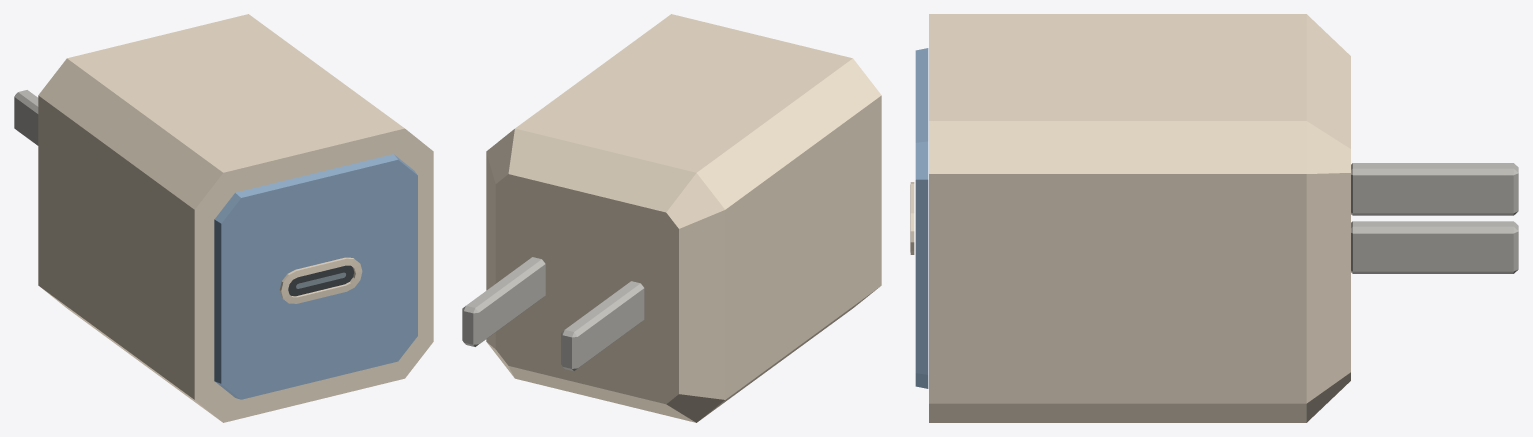
File: phone-charger.glb
The picture shows the model from 3 angles, left to right: view 1: azimuth 30°, elevation 25°; view 2: azimuth 150°, elevation 25°; view 3: azimuth 270°, elevation 25°; orthographic projection. The views are drawn at different scales.
Parts seen in each view (by area): view 1: 01 米白切角塑料外壳; view 2: 01 米白切角塑料外壳; view 3: 01 米白切角塑料外壳.
Boxes of the visible parts, x1=… form: 01 米白切角塑料外壳: x1=14, y1=14, x2=433, y2=422; 01 米白切角塑料外壳: x1=462, y1=14, x2=881, y2=422; 01 米白切角塑料外壳: x1=910, y1=14, x2=1518, y2=422.
Size of the model in its own units: 1.5 by 1.5 by 2.74.
